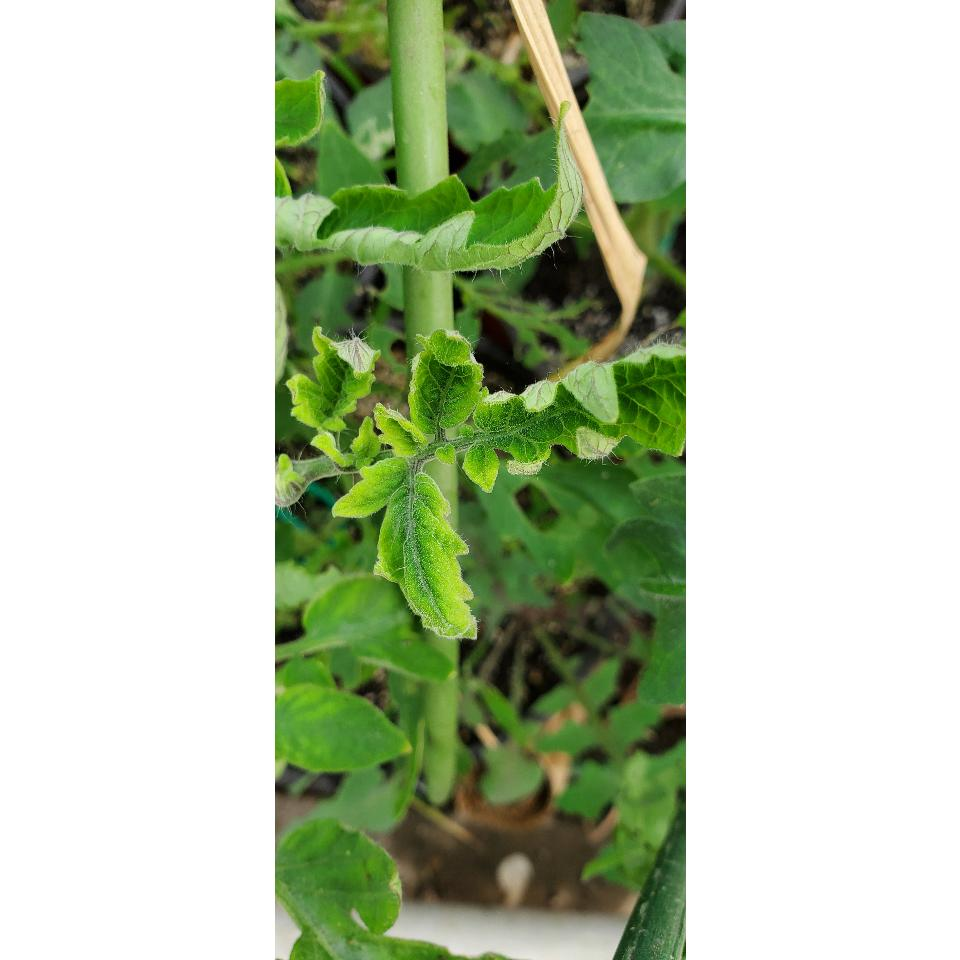tomato_yellow_leaf_curl_virus: (292, 98, 598, 274), (466, 344, 685, 492), (382, 476, 482, 652), (405, 322, 485, 448)
